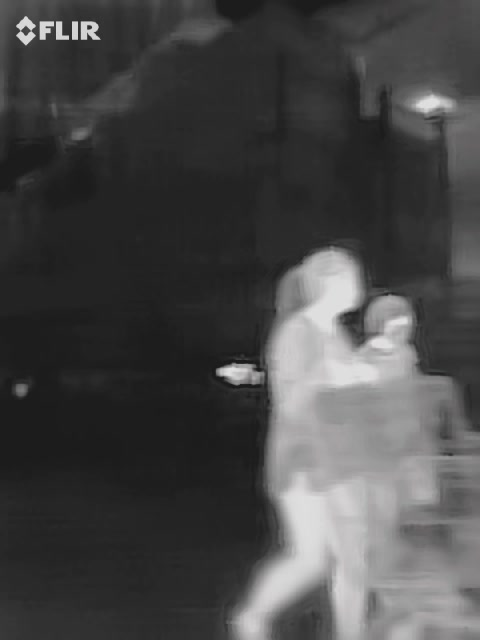head: (301, 246, 365, 320), (367, 295, 416, 344)
